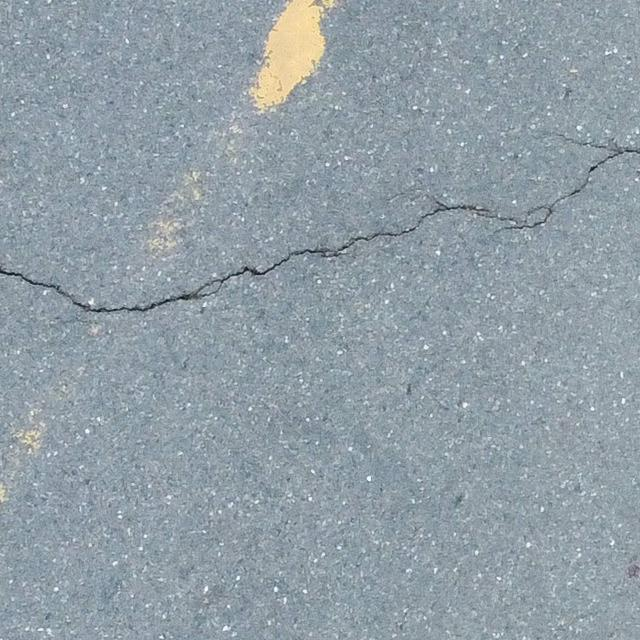TransverseCrack: (1, 136, 640, 313)
